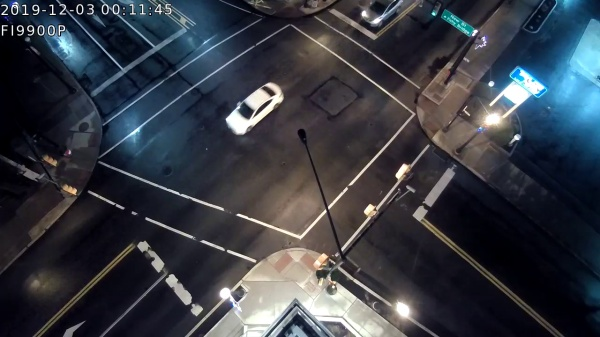car: (225, 82, 283, 137), (359, 1, 400, 30)
